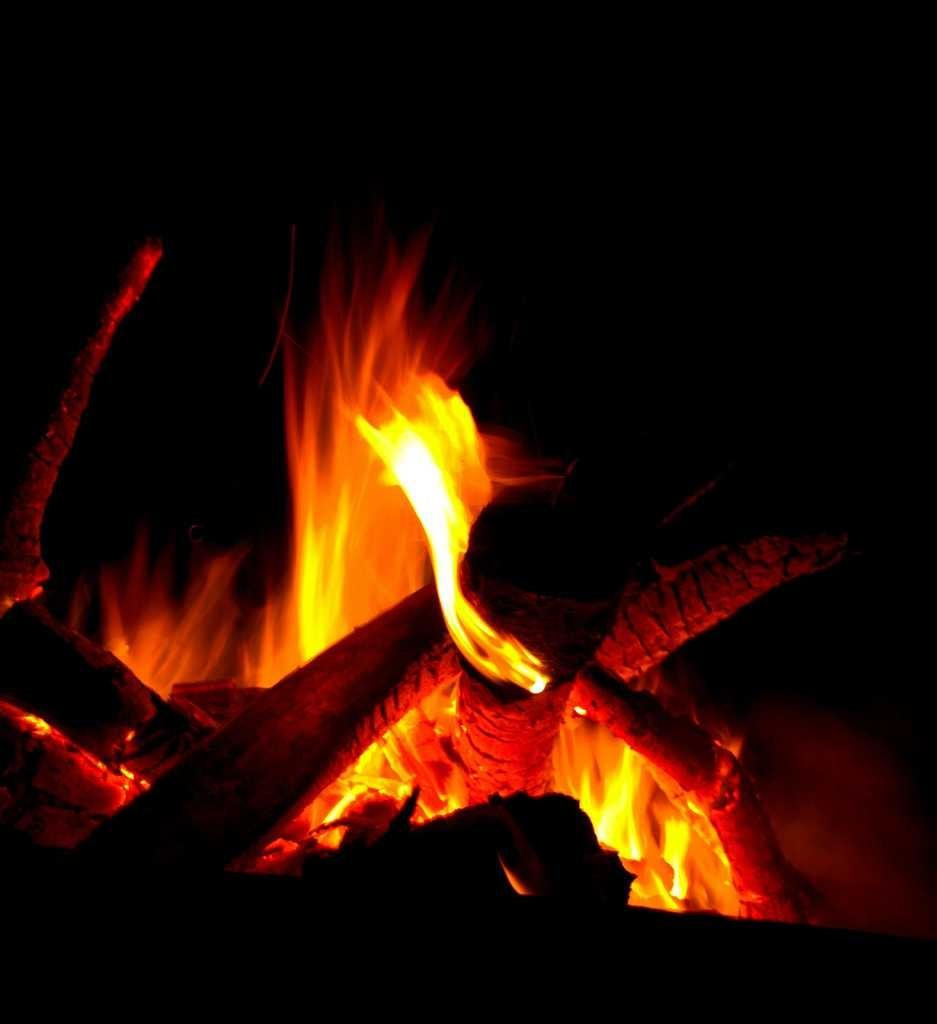fire: (295, 515, 355, 650), (588, 768, 672, 860), (400, 422, 470, 522)
